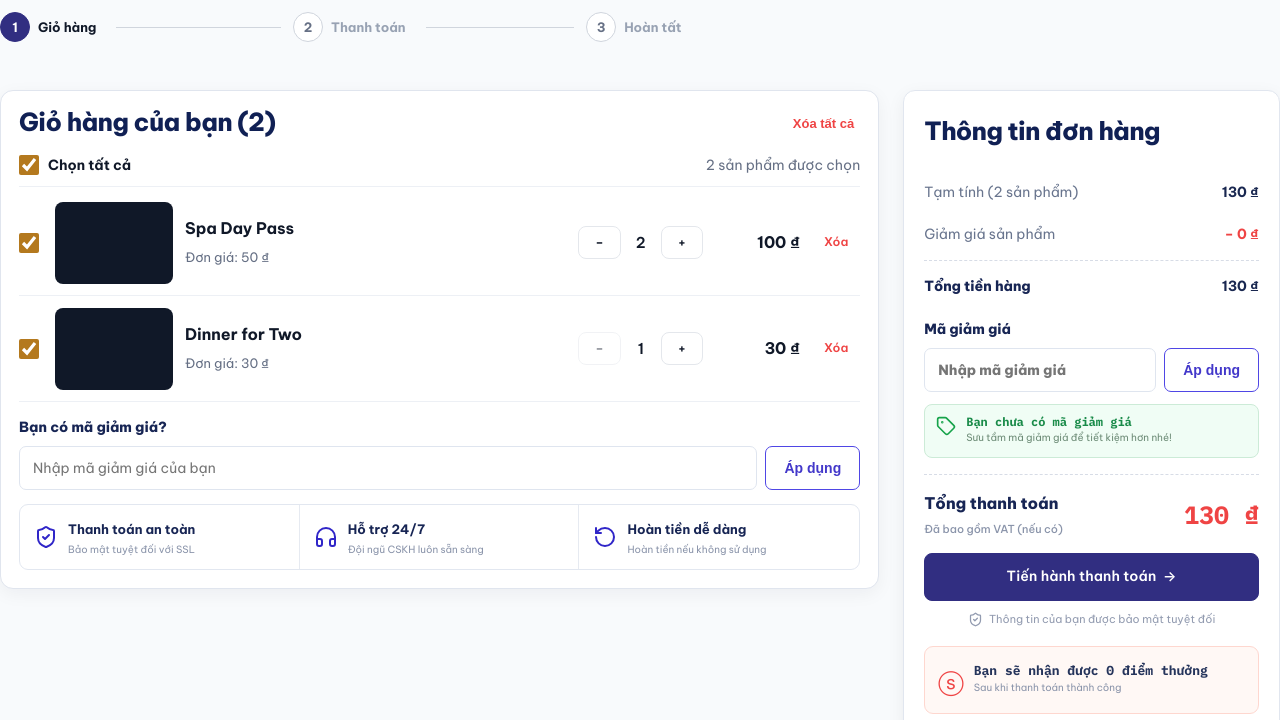
it: CartPage › optimistically updates quantity and reconciles with the server response
This screenshot has width=1280, height=720.
Expected: the text "Spa Day Pass" is shown, [185,218,294,238]
Click the button named "tăng số lượng spa day pass".
click(682, 242)  # box [661,226,703,259]
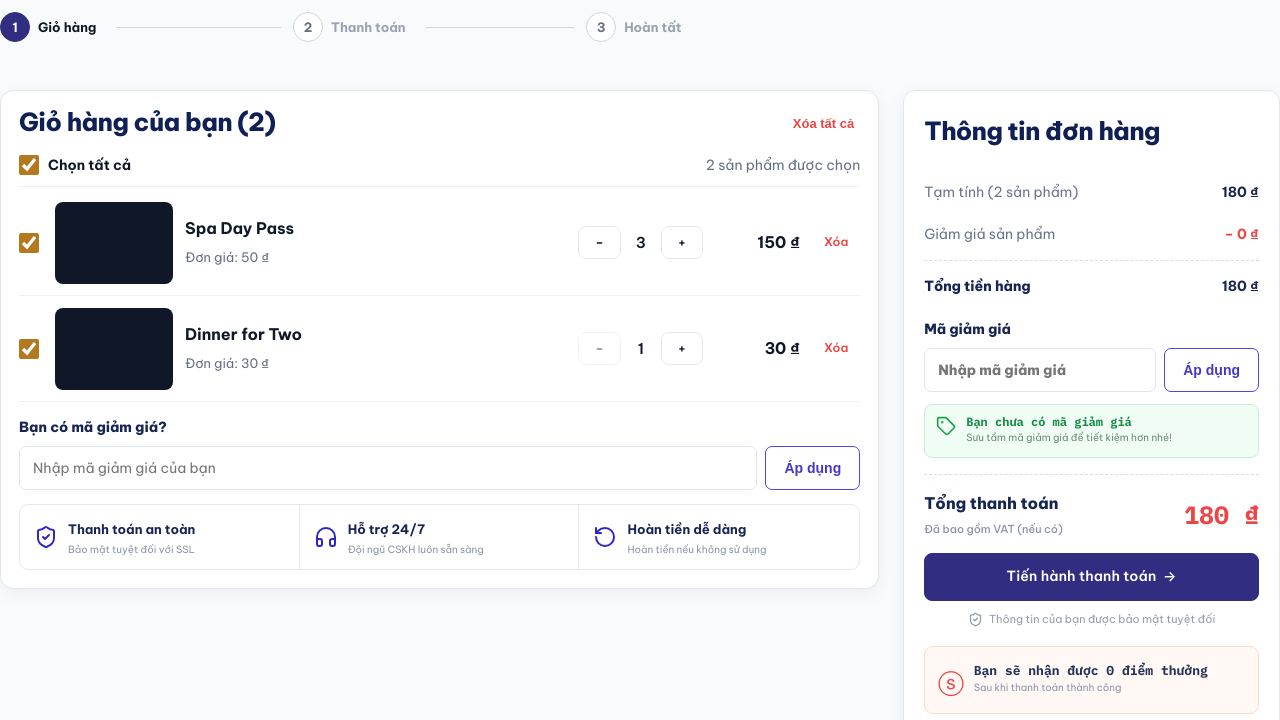
Now the text with test id "quantity-ci-1" reads "3", box [636,232,646,252]
